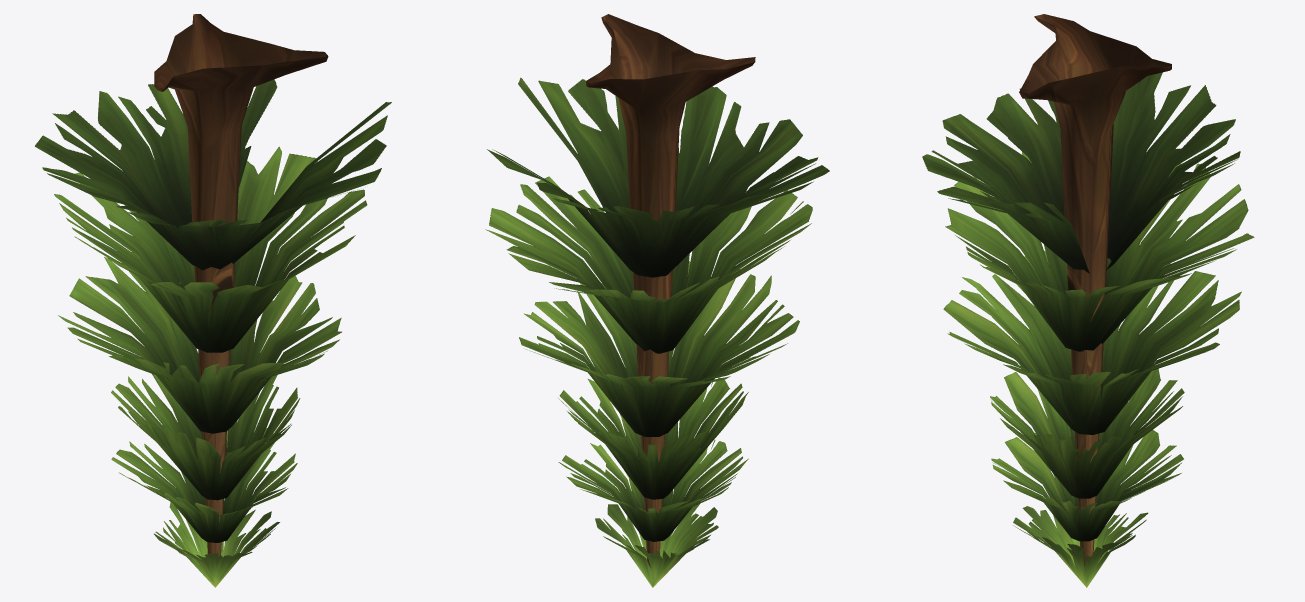
Rendered from PineTree_Rotated_2.fbx.
3 views of the same model, side by side, from view 1: azimuth 30°, elevation 25°; view 2: azimuth 150°, elevation 25°; view 3: azimuth 270°, elevation 25° (orthographic).
Parts seen in each view (by area): view 1: pine_tree_10; view 2: pine_tree_10; view 3: pine_tree_10.
Part boxes in pixels (box(x1,y1,x2,y2)): pine_tree_10: box(35, 14, 391, 587); pine_tree_10: box(485, 14, 829, 587); pine_tree_10: box(922, 14, 1254, 587).
Bounding box in the file's own units: 12.02 × 11.03 × 16.63.
